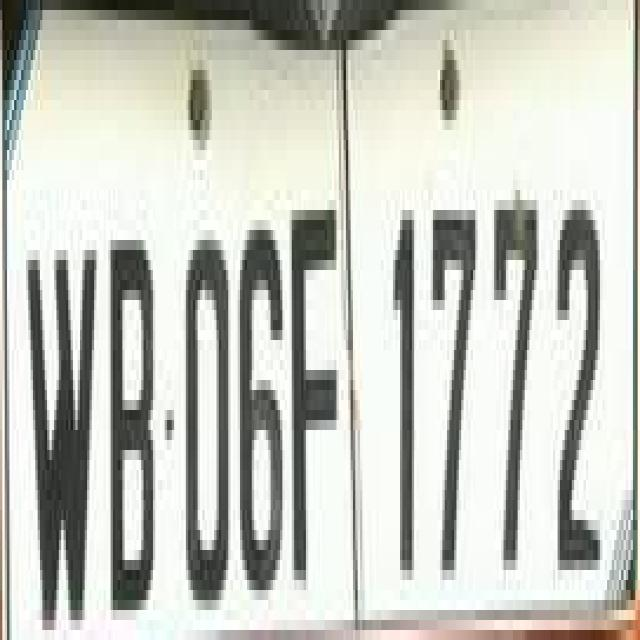license_plate: (4, 10, 604, 640)
